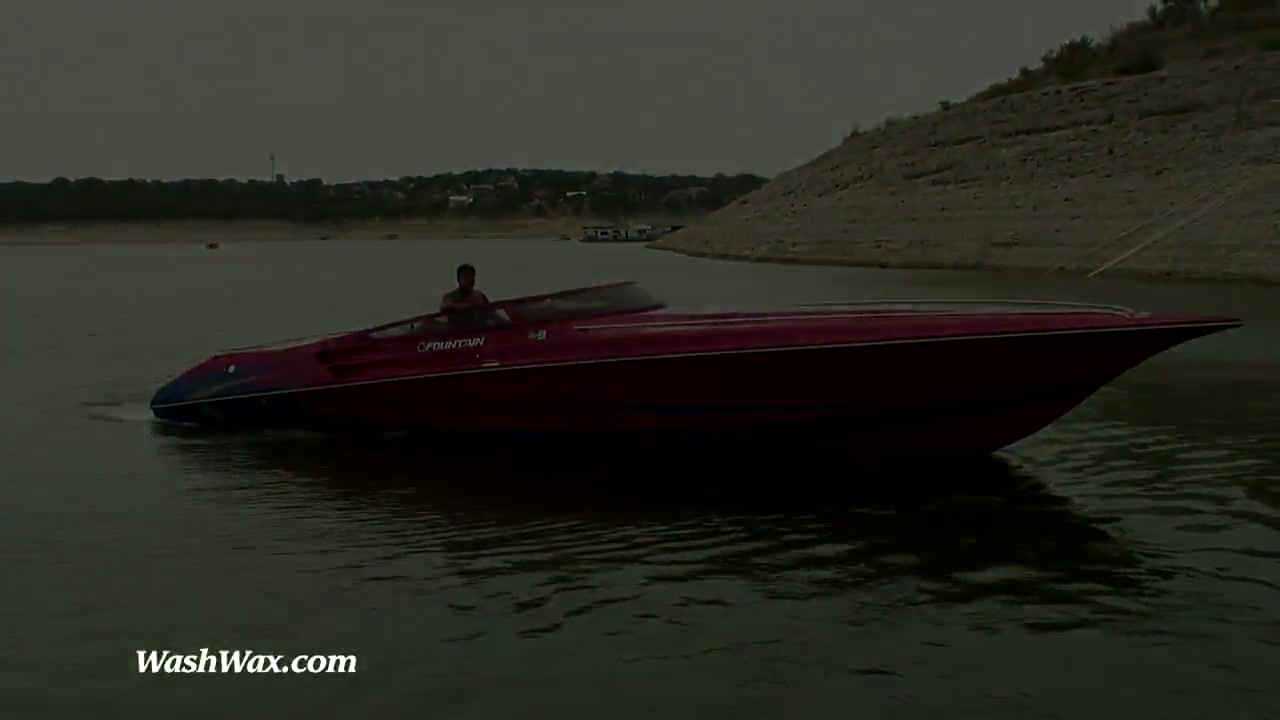boat: (150, 279, 1252, 477)
